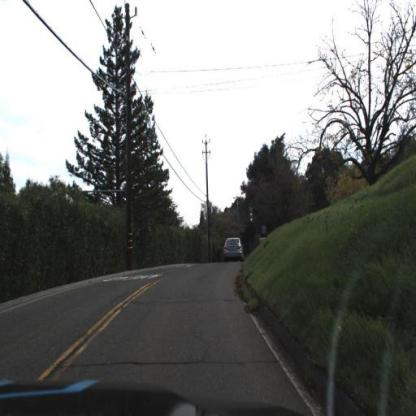car: (220, 233, 248, 263)
